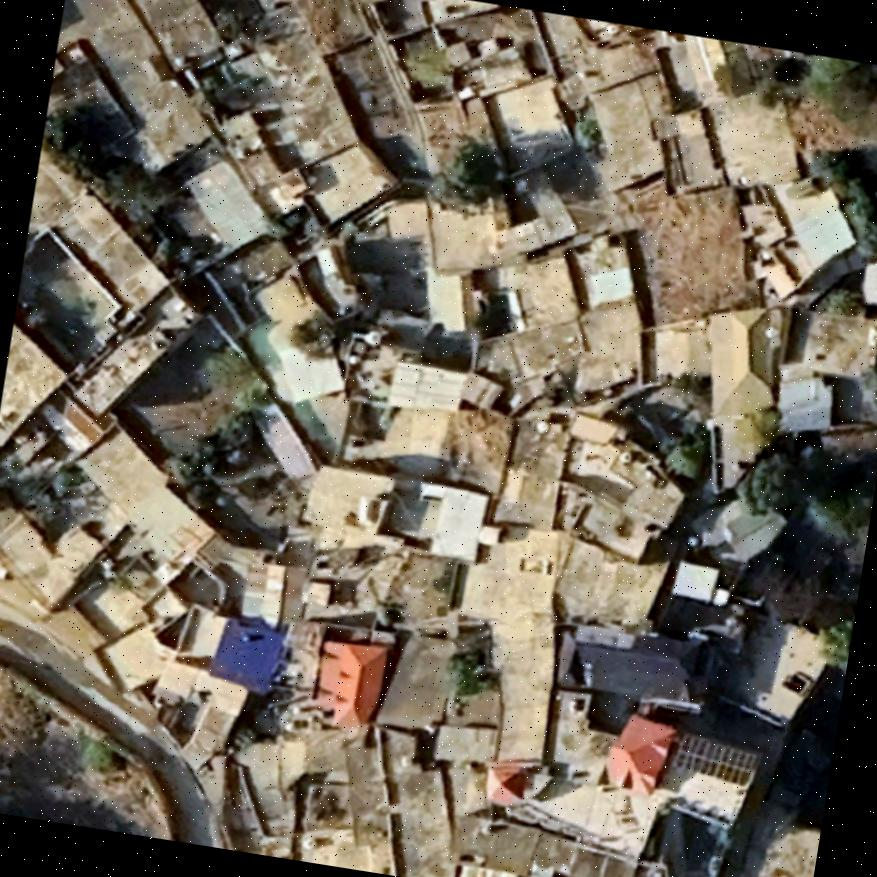Solarpanel: (669, 732, 763, 790)
